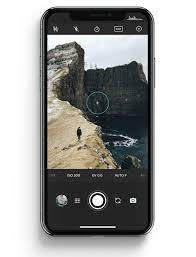camera: (86, 191, 108, 211)
